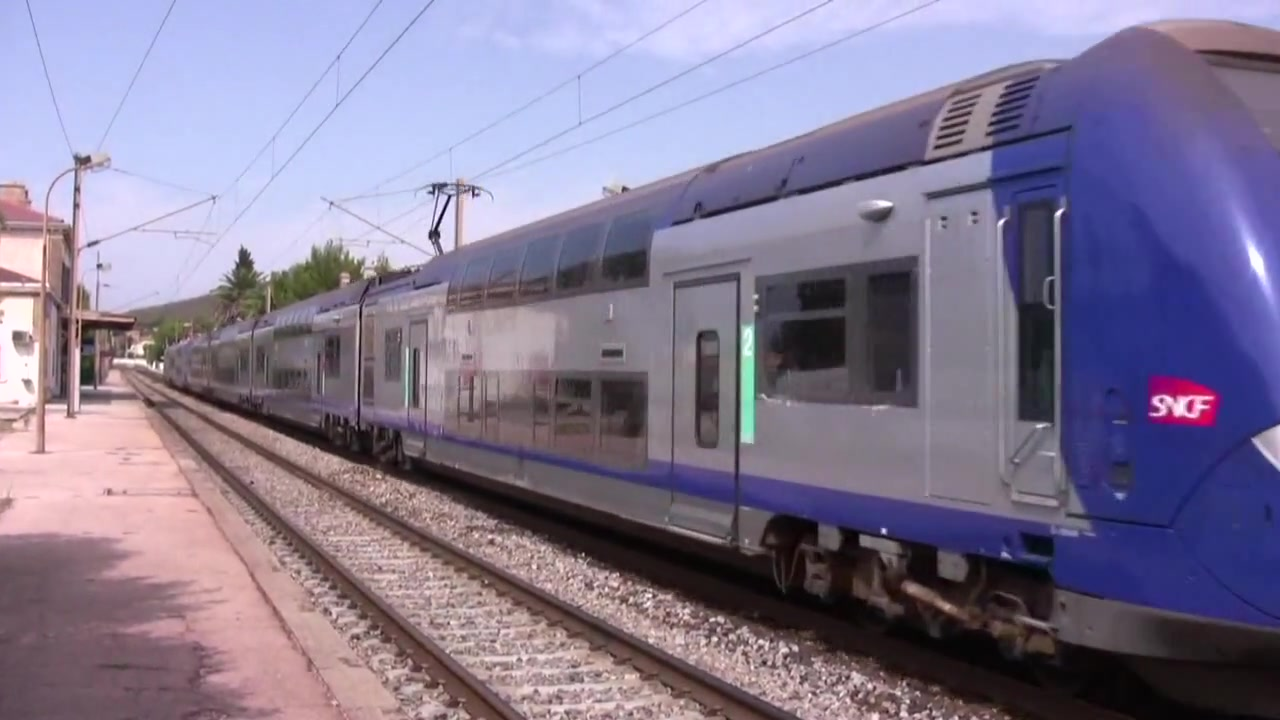train: (157, 14, 1280, 718)
